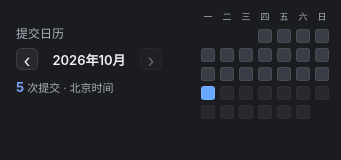
renders hover details without relying on the application to globally register Tooltip
Hover over the button named "2026年10月19日：提交了2道题目，共5次提交" at (208,92), box [201, 86, 215, 100]
Wait 150 ms
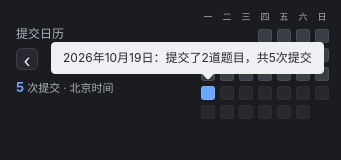
Check: the tooltip "2026年10月19日：提交了2道题目，共5次提交" is shown, box [51, 42, 324, 74]
